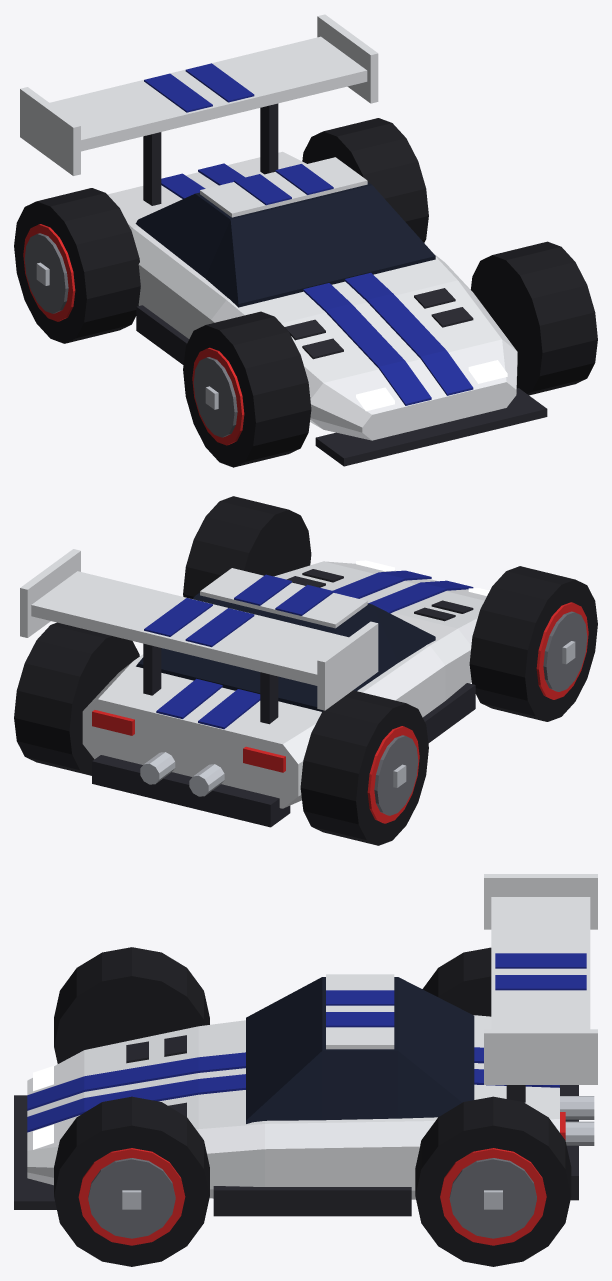
Rendered from knalkart.glb.
The picture shows the model from 3 angles, top to bottom: view 1: azimuth 30°, elevation 25°; view 2: azimuth 150°, elevation 25°; view 3: azimuth 270°, elevation 25°; orthographic projection. The views are drawn at different scales.
Parts seen in each view (by area): view 1: Kart_Body, Kart_Cabin, Kart_Wing, Kart_Wheel_FR, Kart_Wheel_FL, Kart_Wheel_RL, Kart_Wheel_RR, Kart_Splitter, Kart_Stripe_Body_L, Kart_Stripe_Body_R, Kart_WingPlate_L, Kart_Roof (+14 smaller); view 2: Kart_Body, Kart_Wing, Kart_Wheel_FL, Kart_Wheel_RL, Kart_Wheel_RR, Kart_Wheel_FR, Kart_Cabin, Kart_Diffuser, Kart_WingPlate_L, Kart_Roof, Kart_Stripe_Body_L, Kart_Stripe_Body_R (+16 smaller); view 3: Kart_Body, Kart_Cabin, Kart_Wheel_RR, Kart_Wheel_FR, Kart_Wheel_FL, Kart_Wing, Kart_WingPlate_R, Kart_Skirt_R, Kart_Rim_FR, Kart_Rim_RR, Kart_Stripe_Body_L, Kart_Stripe_Body_R (+13 smaller).
Boxes of the visible parts, x1,y1,x2,y2 form: Kart_Body: (107,151,517,440); Kart_Cabin: (135,182,435,307); Kart_Wing: (49,36,367,151); Kart_Wheel_FR: (470,241,597,395); Kart_Wheel_FL: (183,311,311,467); Kart_Wheel_RL: (14,188,140,343); Kart_Wheel_RR: (302,118,428,242); Kart_Splitter: (315,388,547,466); Kart_Stripe_Body_L: (161,173,431,405); Kart_Stripe_Body_R: (198,163,473,395); Kart_WingPlate_L: (20,87,80,175); Kart_Roof: (200,157,367,217); Kart_Body: (82,561,486,808); Kart_Wing: (31,571,348,685); Kart_Wheel_FL: (469,566,597,721); Kart_Wheel_RL: (300,690,428,845); Kart_Wheel_RR: (14,622,139,775); Kart_Wheel_FR: (183,496,311,598); Kart_Cabin: (136,592,435,711); Kart_Diffuser: (92,755,290,827); Kart_WingPlate_L: (317,621,378,710); Kart_Roof: (200,568,367,628); Kart_Stripe_Body_L: (198,580,473,729); Kart_Stripe_Body_R: (156,570,431,718); Kart_Body: (27,1015,559,1199); Kart_Cabin: (246,977,474,1123); Kart_Wheel_RR: (415,1096,571,1266); Kart_Wheel_FR: (54,1096,209,1266); Kart_Wheel_FL: (54,947,209,1063); Kart_Wing: (491,897,590,1029); Kart_WingPlate_R: (484,1029,597,1084); Kart_Skirt_R: (213,1186,411,1216); Kart_Rim_FR: (88,1158,175,1238); Kart_Rim_RR: (449,1158,536,1238); Kart_Stripe_Body_L: (27,1047,483,1110); Kart_Stripe_Body_R: (27,1069,559,1132).
Size of the model in its own units: 2.34 by 1.3 by 3.07.
